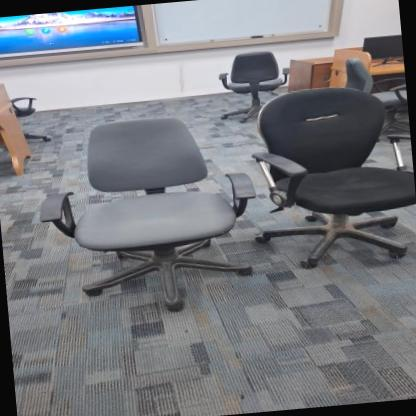chair: (28, 101, 273, 330), (245, 72, 416, 293)
